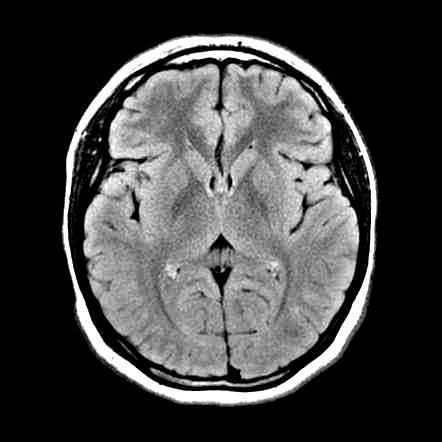Normal_Brain: (15, 9, 442, 442)
